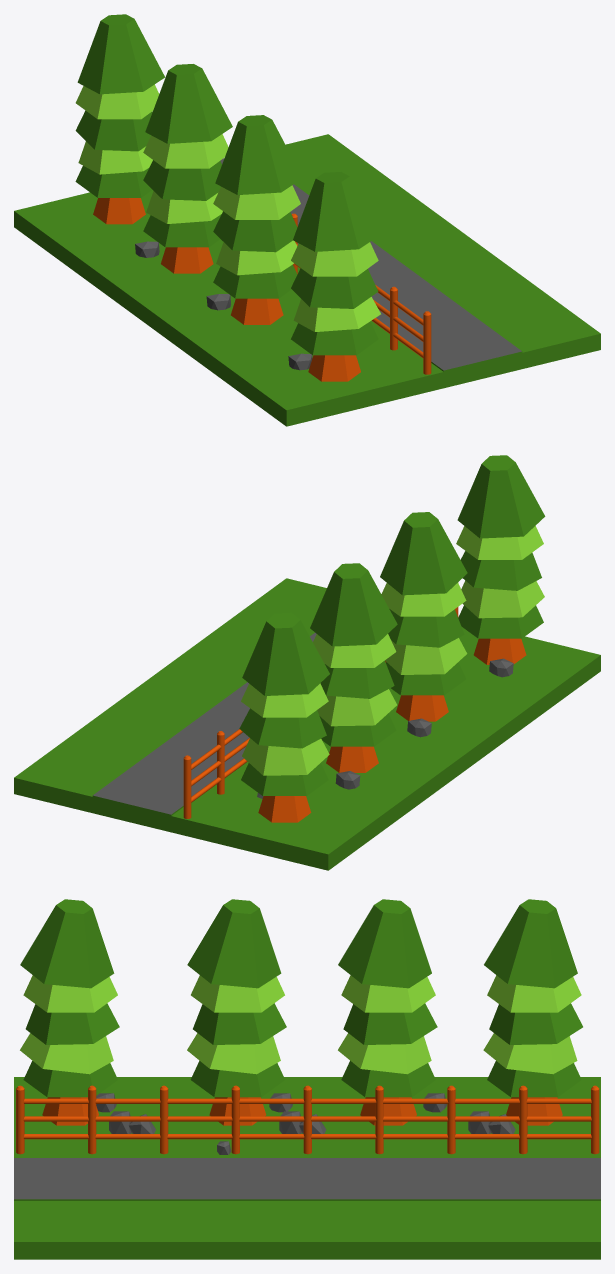
The model's file is lobbyGame_2.glb.
3 renders of one model, top to bottom at view 1: azimuth 30°, elevation 25°; view 2: azimuth 150°, elevation 25°; view 3: azimuth 270°, elevation 25°, orthographic. The views are drawn at different scales.
Parts seen in each view (by area): view 1: Cube, Cylinder.020, Cylinder.026, Cylinder.008, Cylinder.014, Cylinder.006, Cylinder.012, Cylinder.024, Cylinder.018, Cylinder.007, Cylinder.013, Cylinder.025 (+14 smaller); view 2: Cube, Cylinder.026, Cylinder.008, Cylinder.014, Cylinder.020, Cylinder.018, Cylinder.017, Cylinder.006, Cylinder.005, Cylinder.012, Cylinder.011, Cylinder.023 (+14 smaller); view 3: Cube, Cylinder.026, Cylinder.020, Cylinder.008, Cylinder.014, Cylinder.002, Cylinder.035, Cylinder.001, Cylinder.024, Cylinder.006, Cylinder.012, Cylinder.018 (+25 smaller).
Part boxes in pixels (x1,y1,x2,y2): Cube: (14,134,600,426); Cylinder.020: (77,14,165,94); Cylinder.026: (145,64,232,143); Cylinder.008: (293,172,380,251); Cylinder.014: (215,115,302,194); Cylinder.006: (291,268,378,308); Cylinder.012: (213,211,297,252); Cylinder.024: (143,160,221,200); Cylinder.018: (75,110,152,151); Cylinder.007: (291,242,378,276); Cylinder.013: (213,185,300,219); Cylinder.025: (143,134,228,168); Cube: (14,578,600,870); Cylinder.026: (310,563,397,646); Cylinder.008: (457,455,545,538); Cylinder.014: (380,512,467,595); Cylinder.020: (242,612,329,695); Cylinder.018: (239,708,326,748); Cylinder.017: (242,738,329,775); Cylinder.006: (460,551,541,590); Cylinder.005: (461,580,544,618); Cylinder.012: (388,609,464,647); Cylinder.011: (385,638,467,674); Cylinder.023: (317,689,396,726); Cube: (14,1077,600,1259); Cylinder.026: (338,899,431,988); Cylinder.020: (484,899,577,988); Cylinder.008: (20,899,114,988); Cylinder.014: (187,899,281,988); Cylinder.002: (23,1116,591,1121); Cylinder.035: (23,1134,591,1139); Cylinder.001: (23,1098,591,1103); Cylinder.024: (343,1003,437,1044); Cylinder.006: (25,1003,119,1044); Cylinder.012: (193,1003,286,1044); Cylinder.018: (489,1003,582,1044).
Size of the model in its own units: 40.28 by 25.98 by 60.46.
